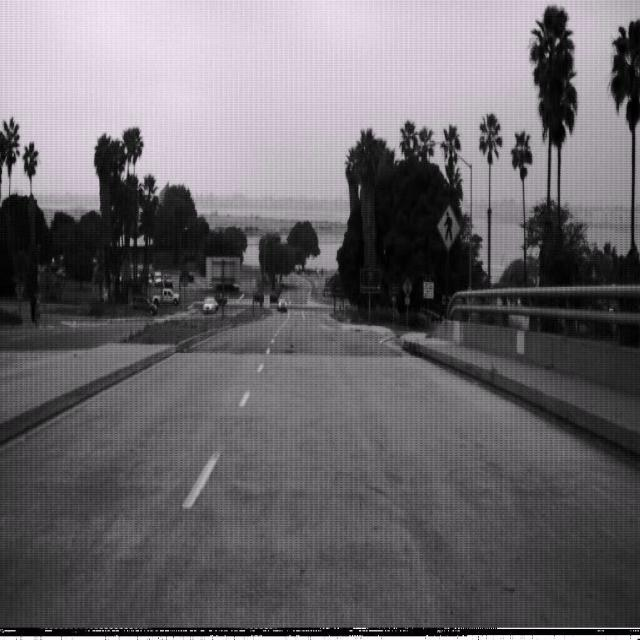pedestrianCrossing: (436, 204, 460, 250)
